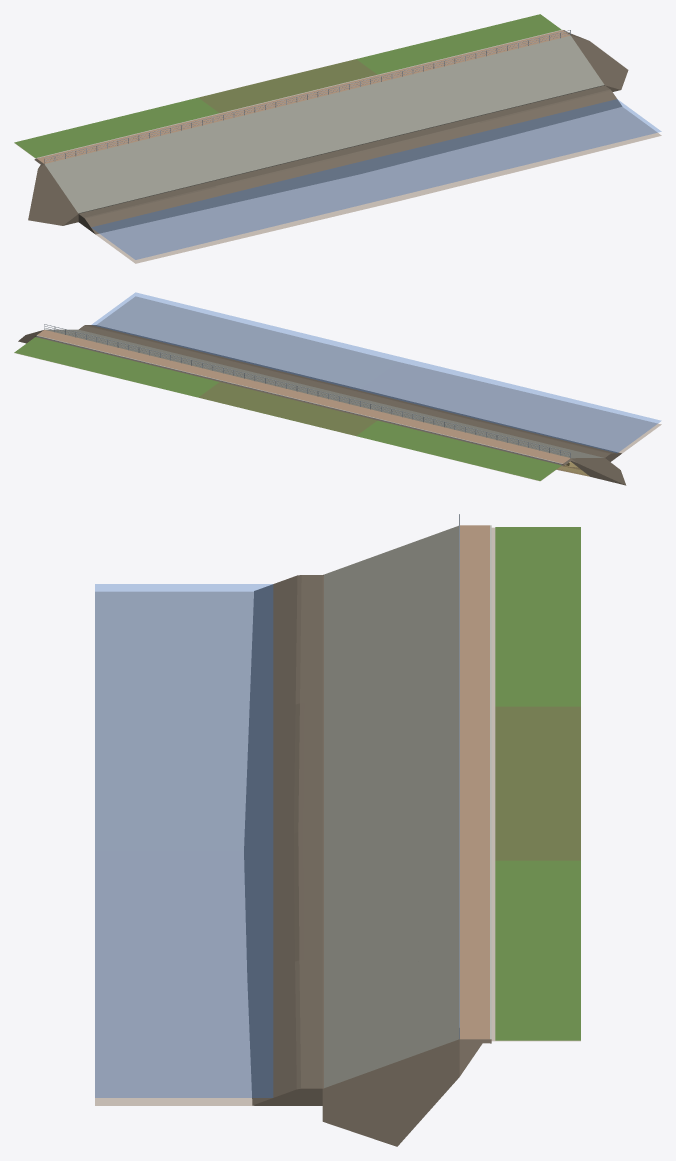
The picture shows the model from 3 angles, top to bottom: view 1: azimuth 30°, elevation 25°; view 2: azimuth 150°, elevation 25°; view 3: azimuth 270°, elevation 25°; orthographic projection. The views are drawn at different scales.
Visible parts, largest first — view 1: ผิวดินเดิม (จากรูปตัดสำรวจ), ระดับน้ำต่ำสุดเฉลี่ย, พื้นดินหลังเขื่อน, คันหินทิ้งตีนเขื่อน 50-75, คันหินทิ้งตีนเขื่อน 25-50, คันหินทิ้งตีนเขื่อน 0-25, คันหินทิ้งตีนเขื่อน 75-100, ทางเท้าปูบล็อกคอนกรีต S07, ทางเท้าปูบล็อกคอนกรีต S03, ทางเท้าปูบล็อกคอนกรีต S05, ทางเท้าปูบล็อกคอนกรีต S01, ทางเท้าปูบล็อกคอนกรีต S02 (+7 smaller); view 2: ผิวดินเดิม (จากรูปตัดสำรวจ), ระดับน้ำต่ำสุดเฉลี่ย, พื้นดินหลังเขื่อน, คันหินทิ้งตีนเขื่อน 0-25, คันหินทิ้งตีนเขื่อน 50-75, คันหินทิ้งตีนเขื่อน 25-50, คันหินทิ้งตีนเขื่อน 75-100, ทางเท้าปูบล็อกคอนกรีต S07, ทางเท้าปูบล็อกคอนกรีต S02, ทางเท้าปูบล็อกคอนกรีต S03, ทางเท้าปูบล็อกคอนกรีต S06, ทางเท้าปูบล็อกคอนกรีต S10 (+5 smaller); view 3: ผิวดินเดิม (จากรูปตัดสำรวจ), ระดับน้ำต่ำสุดเฉลี่ย, พื้นดินหลังเขื่อน, คันหินทิ้งตีนเขื่อน 75-100, คันหินทิ้งตีนเขื่อน 50-75, คันหินทิ้งตีนเขื่อน 25-50, คันหินทิ้งตีนเขื่อน 0-25, ทิ้งหินใหญ่ปิดหัว-ท้ายเขื่อน ท้าย 5, ทางเท้าปูบล็อกคอนกรีต S02, ทิ้งหินใหญ่ปิดหัว-ท้ายเขื่อน ท้าย 4, ทางเท้าปูบล็อกคอนกรีต S01, ทางเท้าปูบล็อกคอนกรีต S03 (+11 smaller).
Boxes of the visible parts, box(x1,y1,x2,y2) form: ผิวดินเดิม (จากรูปตัดสำรวจ): box(16, 32, 661, 263); ระดับน้ำต่ำสุดเฉลี่ย: box(91, 99, 661, 259); พื้นดินหลังเขื่อน: box(14, 14, 561, 157); คันหินทิ้งตีนเขื่อน 50-75: box(342, 117, 491, 173); คันหินทิ้งตีนเขื่อน 25-50: box(210, 149, 360, 203); คันหินทิ้งตีนเขื่อน 0-25: box(78, 182, 227, 234); คันหินทิ้งตีนเขื่อน 75-100: box(473, 85, 621, 140); ทางเท้าปูบล็อกคอนกรีต S07: box(353, 68, 412, 86); ทางเท้าปูบล็อกคอนกรีต S03: box(142, 120, 201, 138); ทางเท้าปูบล็อกคอนกรีต S05: box(247, 94, 306, 112); ทางเท้าปูบล็อกคอนกรีต S01: box(37, 145, 96, 163); ทางเท้าปูบล็อกคอนกรีต S02: box(90, 133, 149, 150); ผิวดินเดิม (จากรูปตัดสำรวจ): box(15, 296, 661, 481); ระดับน้ำต่ำสุดเฉลี่ย: box(92, 292, 660, 452); พื้นดินหลังเขื่อน: box(14, 337, 561, 480); คันหินทิ้งตีนเขื่อน 0-25: box(473, 421, 621, 461); คันหินทิ้งตีนเขื่อน 50-75: box(210, 357, 360, 393); คันหินทิ้งตีนเขื่อน 25-50: box(342, 389, 490, 425); คันหินทิ้งตีนเขื่อน 75-100: box(79, 325, 227, 361); ทางเท้าปูบล็อกคอนกรีต S07: box(195, 368, 254, 386); ทางเท้าปูบล็อกคอนกรีต S02: box(458, 432, 517, 450); ทางเท้าปูบล็อกคอนกรีต S03: box(405, 419, 464, 437); ทางเท้าปูบล็อกคอนกรีต S06: box(248, 381, 306, 399); ทางเท้าปูบล็อกคอนกรีต S10: box(37, 330, 96, 347); ผิวดินเดิม (จากรูปตัดสำรวจ): box(95, 527, 580, 1105); ระดับน้ำต่ำสุดเฉลี่ย: box(95, 584, 272, 1097); พื้นดินหลังเขื่อน: box(495, 527, 580, 1040); คันหินทิ้งตีนเขื่อน 75-100: box(247, 960, 323, 1105); คันหินทิ้งตีนเขื่อน 50-75: box(244, 832, 323, 978); คันหินทิ้งตีนเขื่อน 25-50: box(244, 703, 323, 851); คันหินทิ้งตีนเขื่อน 0-25: box(249, 575, 323, 720); ทิ้งหินใหญ่ปิดหัว-ท้ายเขื่อน ท้าย 5: box(397, 1054, 417, 1146); ทางเท้าปูบล็อกคอนกรีต S02: box(460, 576, 489, 628); ทิ้งหินใหญ่ปิดหัว-ท้ายเขื่อน ท้าย 4: box(378, 1062, 397, 1146); ทางเท้าปูบล็อกคอนกรีต S01: box(460, 525, 489, 576); ทางเท้าปูบล็อกคอนกรีต S03: box(460, 628, 489, 679).
Size of the model in its own units: 115 by 7.34 by 40.
